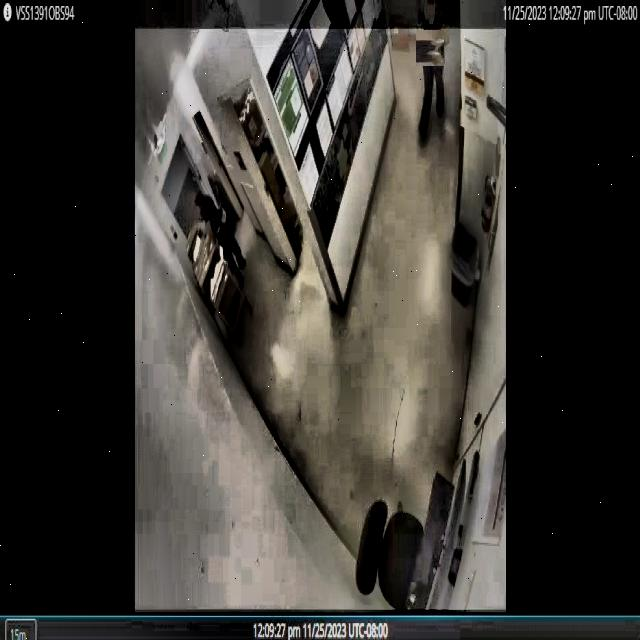not-gloved: (414, 32, 446, 64)
